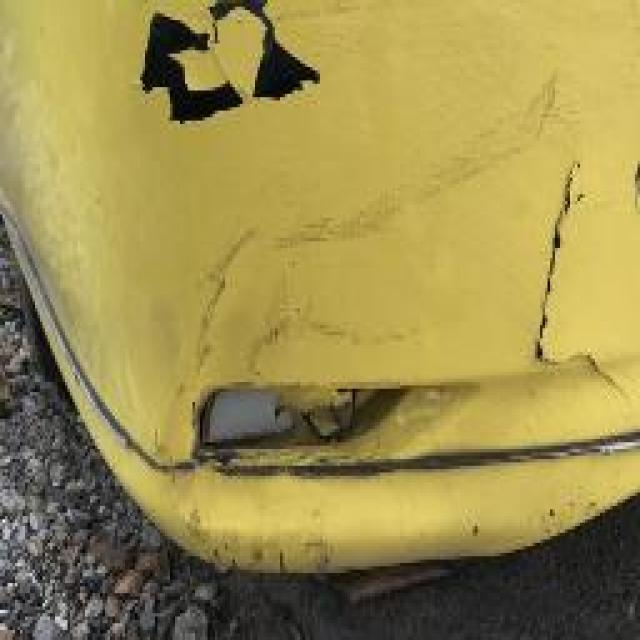Bumper: (100, 7, 625, 573)
